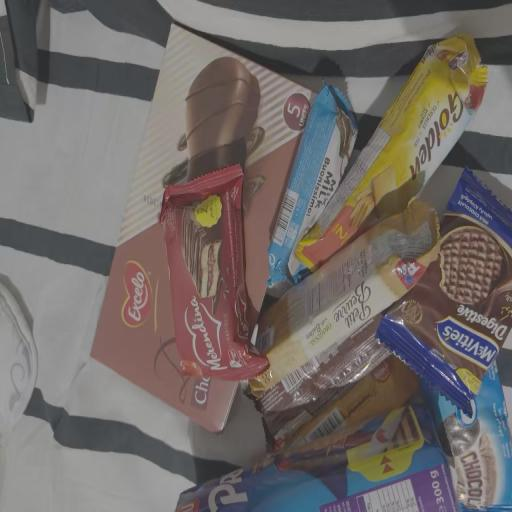merendina: (163, 170, 290, 398)
